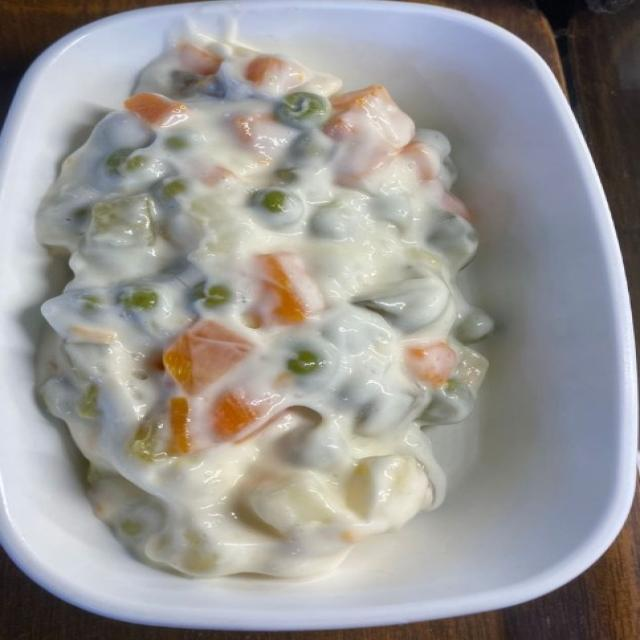yan_yemek: (31, 28, 496, 580)
